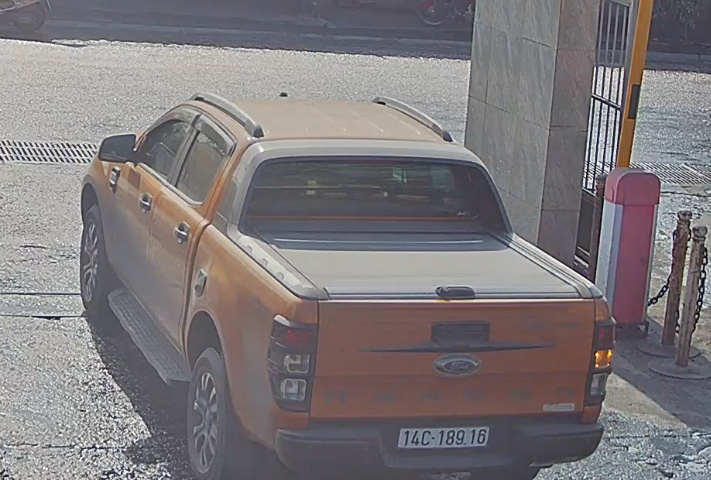vehicle plate: (392, 421, 492, 453)
